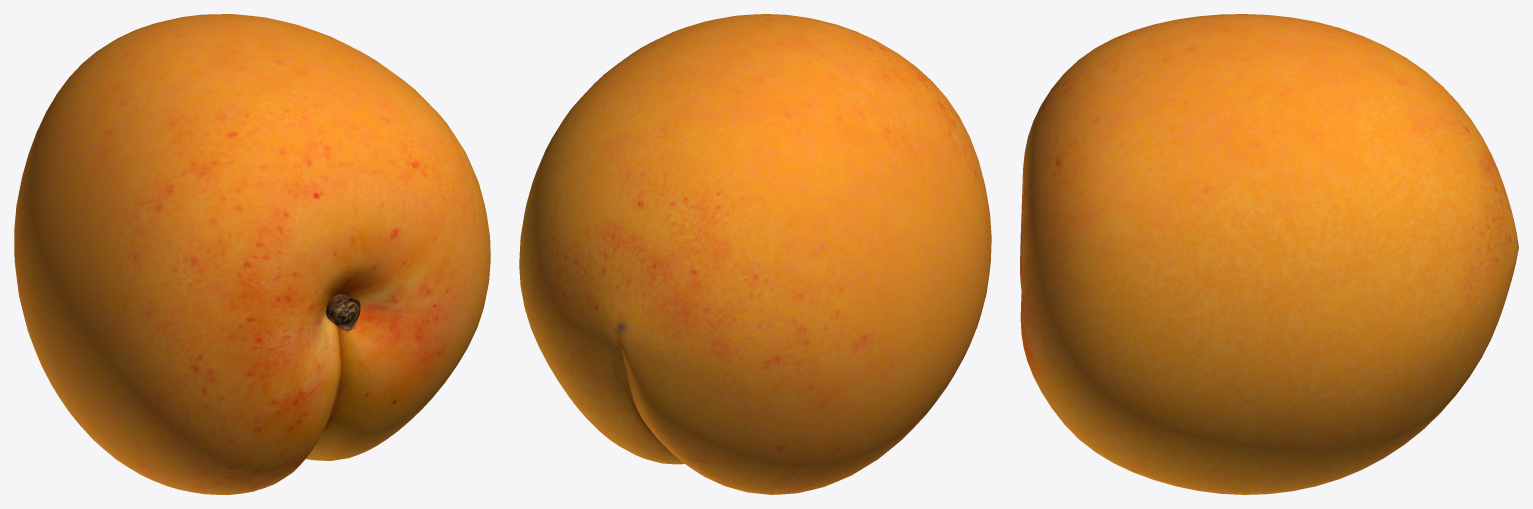
The model's file is peach.obj.
3 views of the same model, side by side, from view 1: azimuth 30°, elevation 25°; view 2: azimuth 150°, elevation 25°; view 3: azimuth 270°, elevation 25° (orthographic). The views are drawn at different scales.
Visible parts, largest first — view 1: Fruit; view 2: Fruit; view 3: Fruit.
Boxes of the visible parts, box(x1,y1,x2,y2) form: Fruit: box(14, 14, 490, 494); Fruit: box(519, 14, 991, 494); Fruit: box(1020, 14, 1518, 494).
Size of the model in its own units: 5.21 by 5.35 by 5.55.
1 material, 1 textured.
